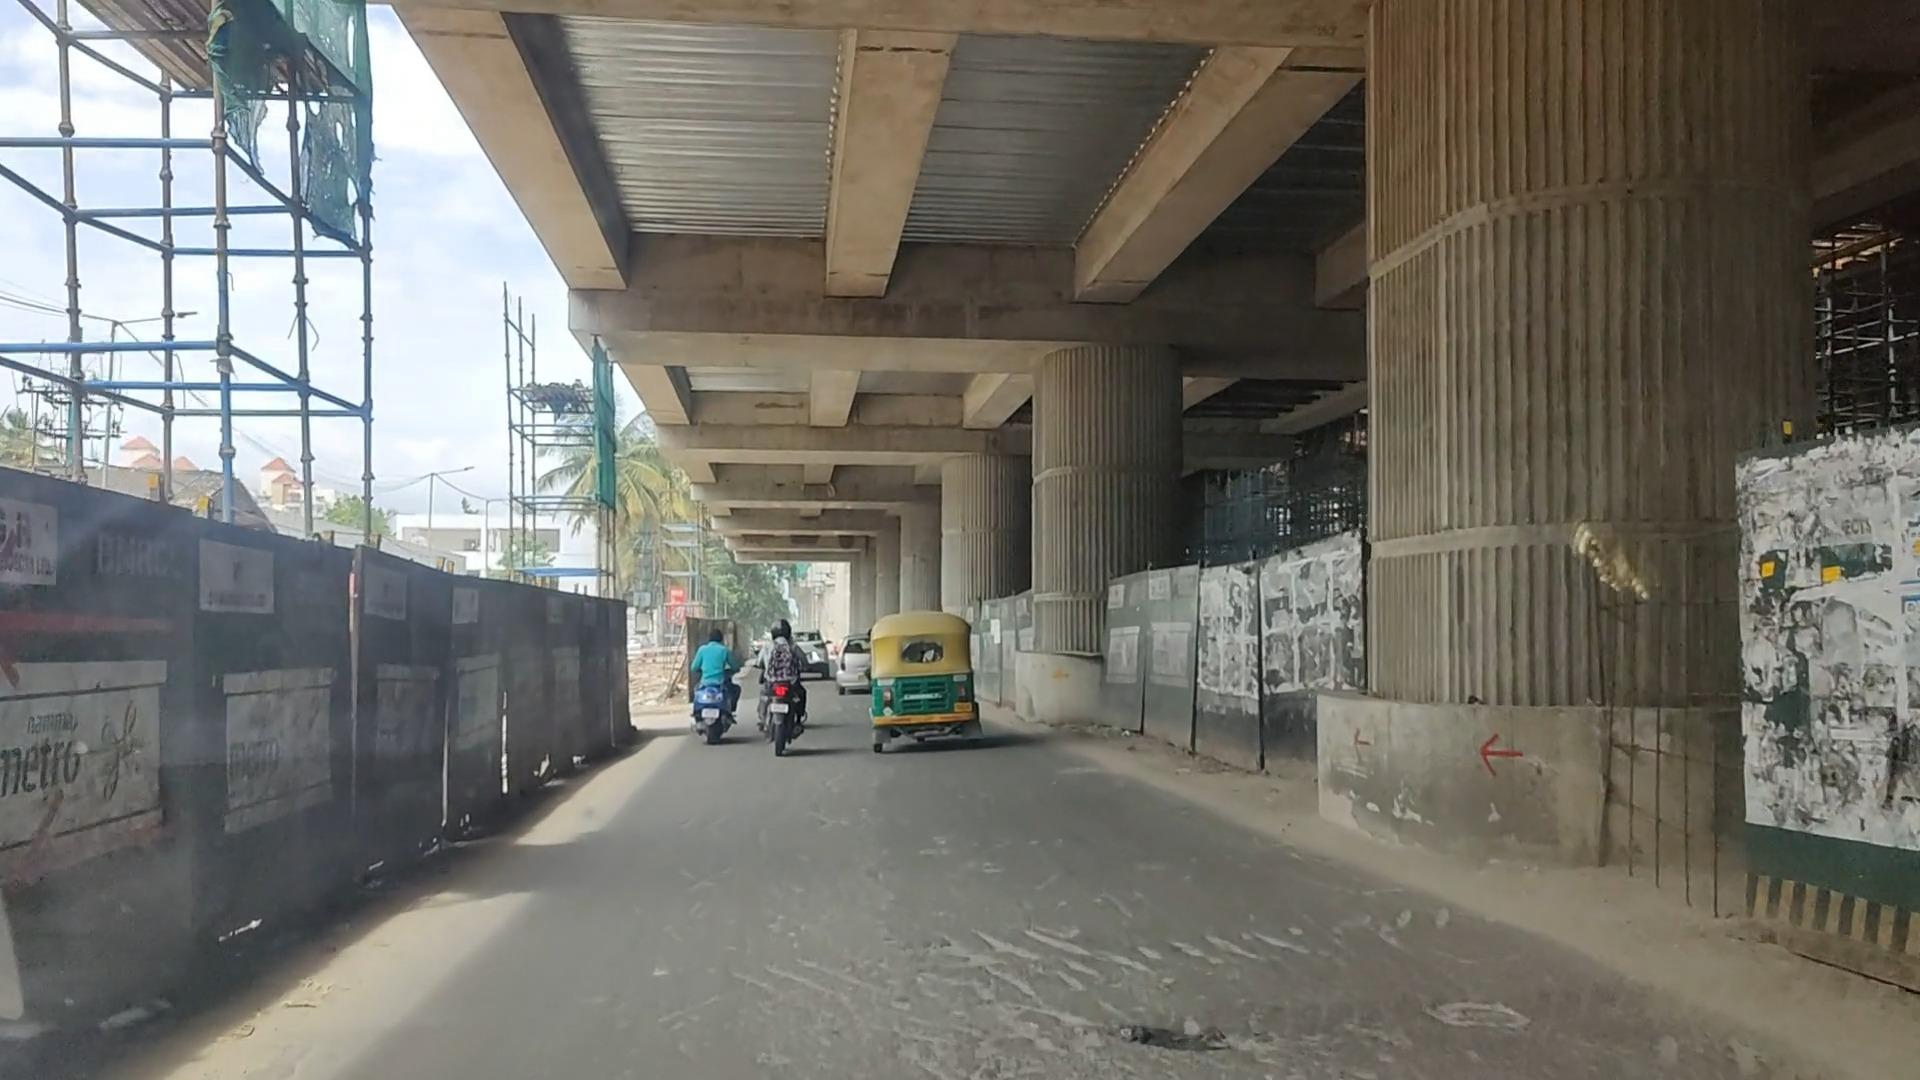LMV: (856, 591, 978, 782), (738, 597, 807, 778)
RoadDamages: (702, 901, 1743, 1077), (727, 798, 1308, 927)
